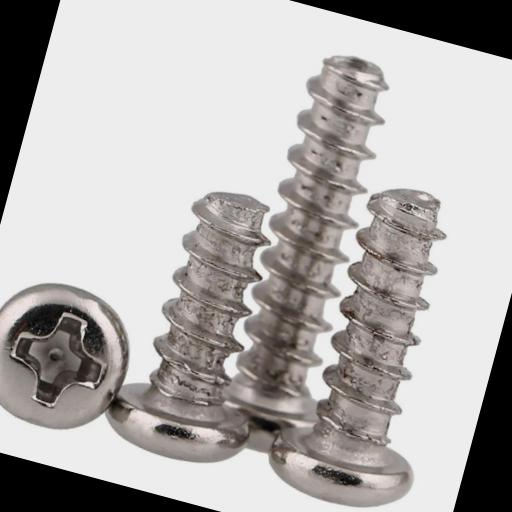Phillips: (0, 267, 139, 446)
